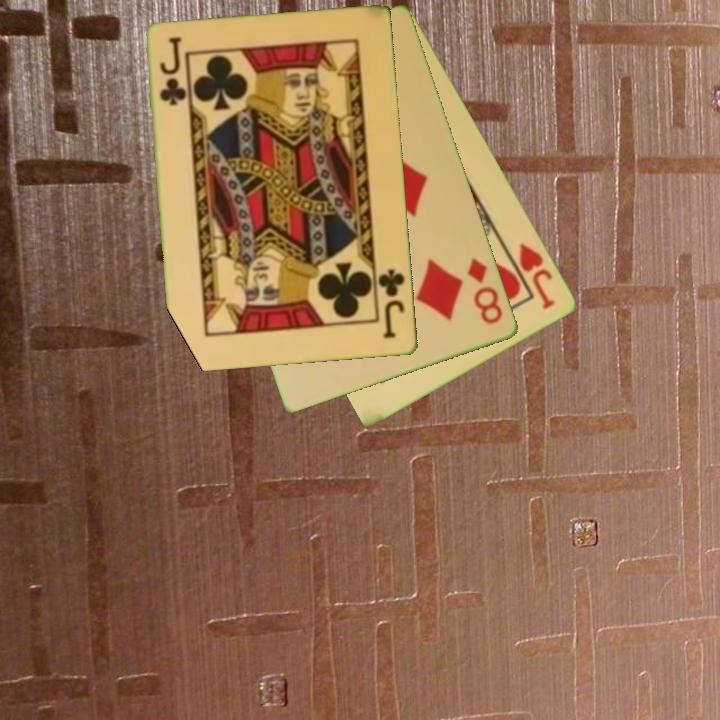8d: (464, 254, 506, 328)
Jc: (375, 265, 408, 342), (156, 34, 188, 109)
Jh: (502, 238, 559, 313)
